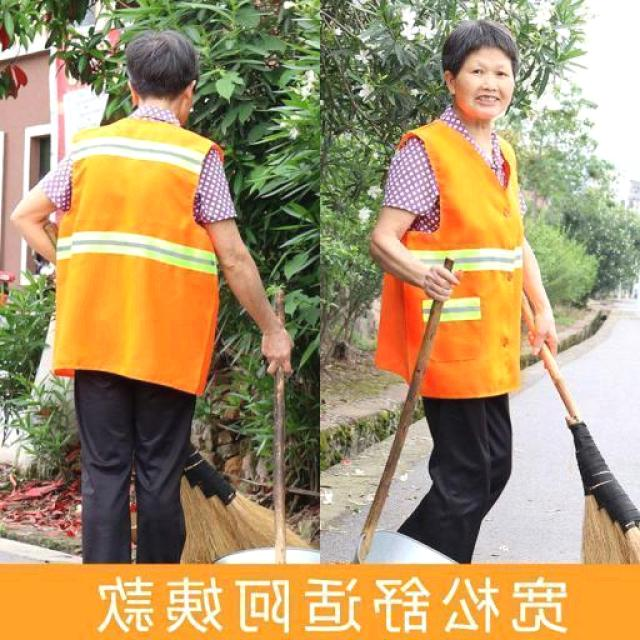face_nomask: (462, 58, 516, 114)
hand_noglove: (251, 316, 298, 382), (413, 253, 462, 301), (525, 304, 565, 360)
head_nohelmet: (122, 28, 199, 117), (440, 10, 520, 64)
person: (11, 19, 280, 566), (343, 9, 536, 562)
vest: (46, 118, 232, 388), (378, 123, 534, 397)
